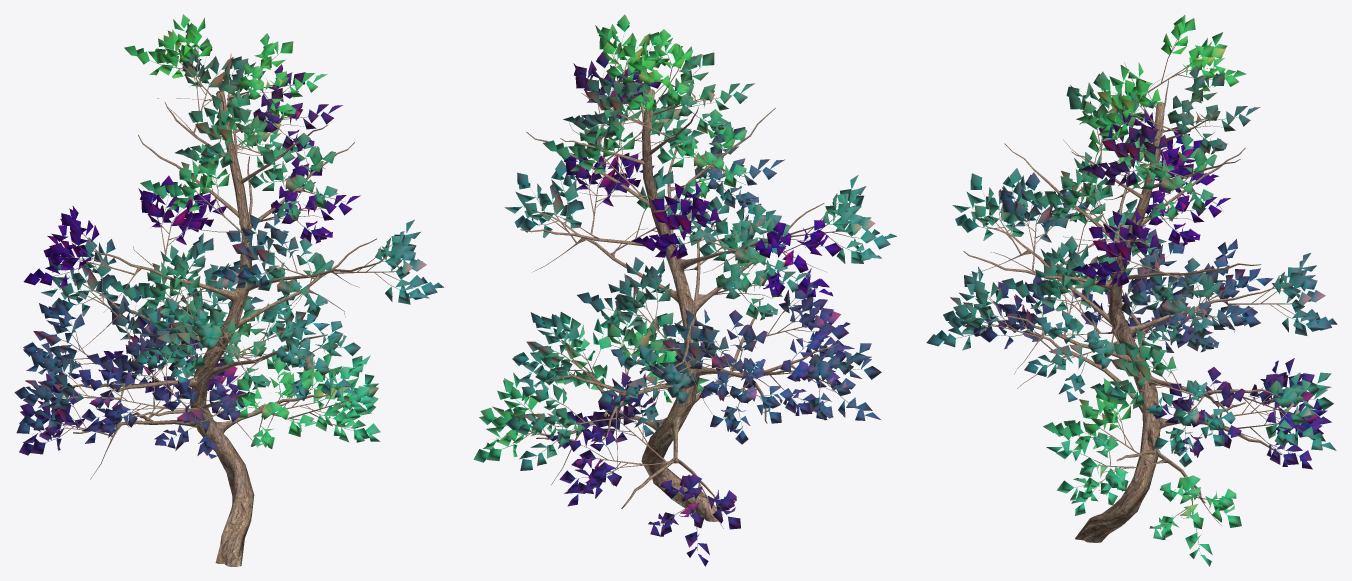
The model's file is DM.Tree.Maple.10.fbx.
The picture shows the model from 3 angles, left to right: view 1: azimuth 30°, elevation 25°; view 2: azimuth 150°, elevation 25°; view 3: azimuth 270°, elevation 25°; orthographic projection.
Visible parts, largest first — view 1: Tree_1, Tree_0; view 2: Tree_1, Tree_0; view 3: Tree_1, Tree_0.
Boxes of the visible parts, bbox=[...] form: Tree_1: bbox=[14, 14, 443, 458]; Tree_0: bbox=[37, 26, 419, 566]; Tree_1: bbox=[473, 14, 896, 566]; Tree_0: bbox=[496, 33, 868, 550]; Tree_1: bbox=[926, 14, 1337, 566]; Tree_0: bbox=[944, 30, 1320, 555].
Size of the model in its own units: 388 by 483 by 344.
Materials: 1 (1 with a texture image).
